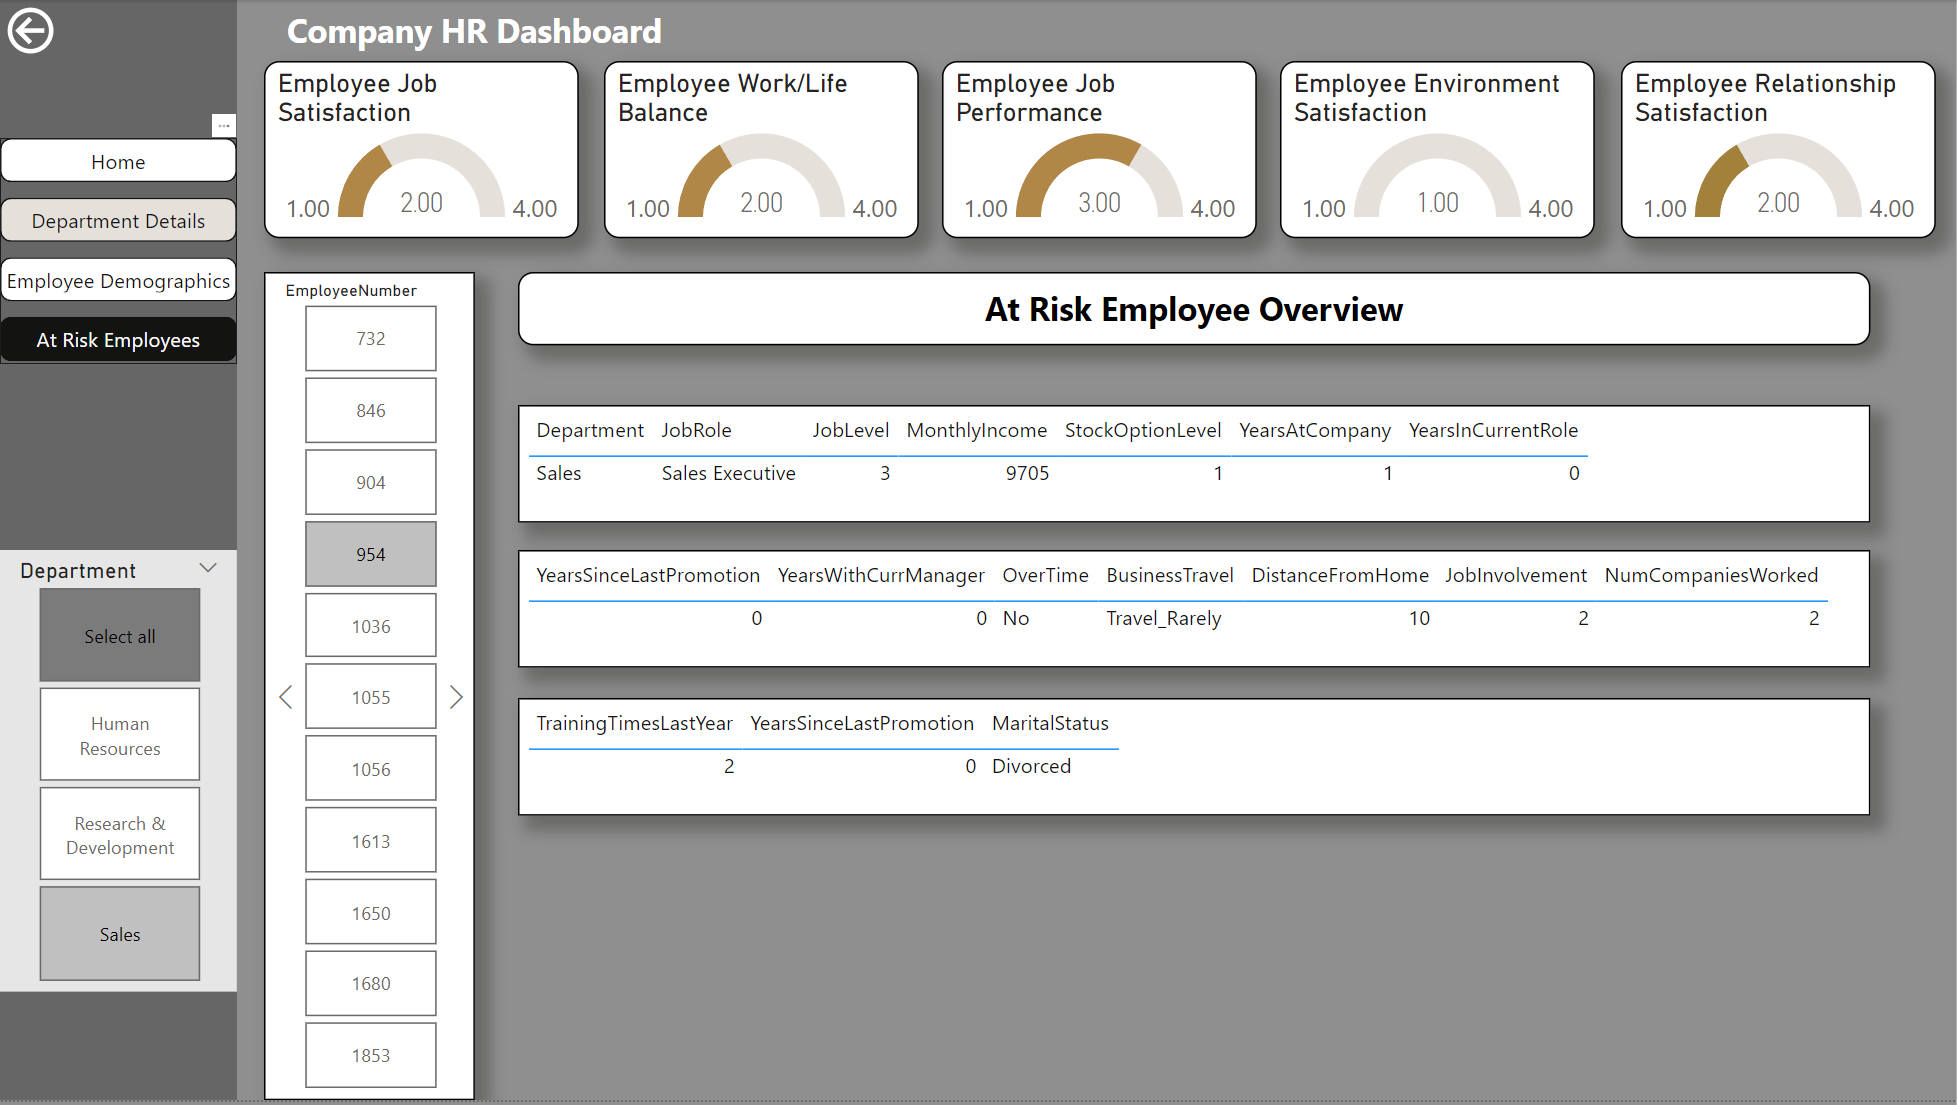

This screenshot's page, from the dashboard's own definition file:
{"tool":"powerbi","page":{"name":"At Risk Employees","canvas":[1280,720],"ordinal":3},"visuals":[{"type":"shape","box":[0,0,155.3,719.6],"z":0},{"type":"actionButton","box":[0,0,100,40],"z":1000},{"type":"gauge","title":"Employee Job Performance","fields":{"Y":["Avg(HR Employee Attrition.PerformanceRating)"]},"box":[616.4,39.9,206.1,116.5],"z":2000},{"type":"pageNavigator","box":[0,90.6,155.3,147.3],"z":3000},{"type":"slicer","fields":{"Values":["HR Employee Attrition.Department"]},"box":[0,359.8,155.3,288.5],"z":4000},{"type":"textbox","title":"CCc","box":[167.5,0,286,39.9],"z":5000},{"type":"gauge","title":"Employee Environment Satisfaction","fields":{"Y":["Avg(HR Employee Attrition.EnvironmentSatisfaction)"]},"box":[837.6,39.9,206.1,116.5],"z":6000},{"type":"slicer","fields":{"Values":["HR Employee Attrition.EmployeeNumber"]},"box":[172.8,178,138.1,541.8],"z":7000},{"type":"gauge","title":"Employee Job Satisfaction","fields":{"Y":["Avg(HR Employee Attrition.JobSatisfaction)"]},"box":[172.8,39.9,206.1,116.5],"z":8000},{"type":"tableEx","fields":{"Values":["HR Employee Attrition.Department","HR Employee Attrition.JobRole","HR Employee Attrition.JobLevel","HR Employee Attrition.MonthlyIncome","HR Employee Attrition.StockOptionLevel","HR Employee Attrition.YearsAtCompany","HR Employee Attrition.YearsInCurrentRole"]},"box":[339,265,884.7,76.6],"z":9000},{"type":"gauge","title":"Employee Relationship Satisfaction","fields":{"Y":["Avg(HR Employee Attrition.RelationshipSatisfaction)"]},"box":[1060.8,39.9,206.1,116.5],"z":10000},{"type":"gauge","title":"Employee Work/Life Balance","fields":{"Y":["Avg(HR Employee Attrition.WorkLifeBalance)"]},"box":[395.3,39.9,206.1,116.5],"z":11000},{"type":"tableEx","fields":{"Values":["HR Employee Attrition.YearsSinceLastPromotion","HR Employee Attrition.YearsWithCurrManager","HR Employee Attrition.OverTime","HR Employee Attrition.BusinessTravel","HR Employee Attrition.DistanceFromHome","HR Employee Attrition.JobInvolvement","HR Employee Attrition.NumCompaniesWorked"]},"box":[339,359.9,884.7,77.2],"z":13000},{"type":"tableEx","fields":{"Values":["HR Employee Attrition.TrainingTimesLastYear","HR Employee Attrition.YearsSinceLastPromotion","HR Employee Attrition.MaritalStatus"]},"box":[339,456.8,884.7,77.2],"z":13001},{"type":"textbox","title":"CCc","box":[339,178,884.7,48.4],"z":13002}]}

Visuals, with their boxes in screenshot pixels (x1, y1, x2, y2):
shape: select_region(0, 0, 234, 1085)
actionButton: select_region(0, 0, 151, 60)
"Employee Job Performance" gauge: select_region(929, 60, 1240, 236)
pageNavigator: select_region(0, 137, 234, 359)
slicer - HR Employee Attrition.Department: select_region(0, 542, 234, 977)
"CCc" textbox: select_region(253, 0, 684, 60)
"Employee Environment Satisfaction" gauge: select_region(1263, 60, 1574, 236)
slicer - HR Employee Attrition.EmployeeNumber: select_region(261, 268, 469, 1085)
"Employee Job Satisfaction" gauge: select_region(261, 60, 571, 236)
tableEx - HR Employee Attrition.Department x HR Employee Attrition.JobRole: select_region(511, 400, 1845, 515)
"Employee Relationship Satisfaction" gauge: select_region(1599, 60, 1910, 236)
"Employee Work/Life Balance" gauge: select_region(596, 60, 907, 236)
tableEx - HR Employee Attrition.YearsSinceLastPromotion x HR Employee Attrition.YearsWithCurrManager: select_region(511, 543, 1845, 659)
tableEx - HR Employee Attrition.TrainingTimesLastYear x HR Employee Attrition.YearsSinceLastPromotion: select_region(511, 689, 1845, 805)
"CCc" textbox: select_region(511, 268, 1845, 341)
